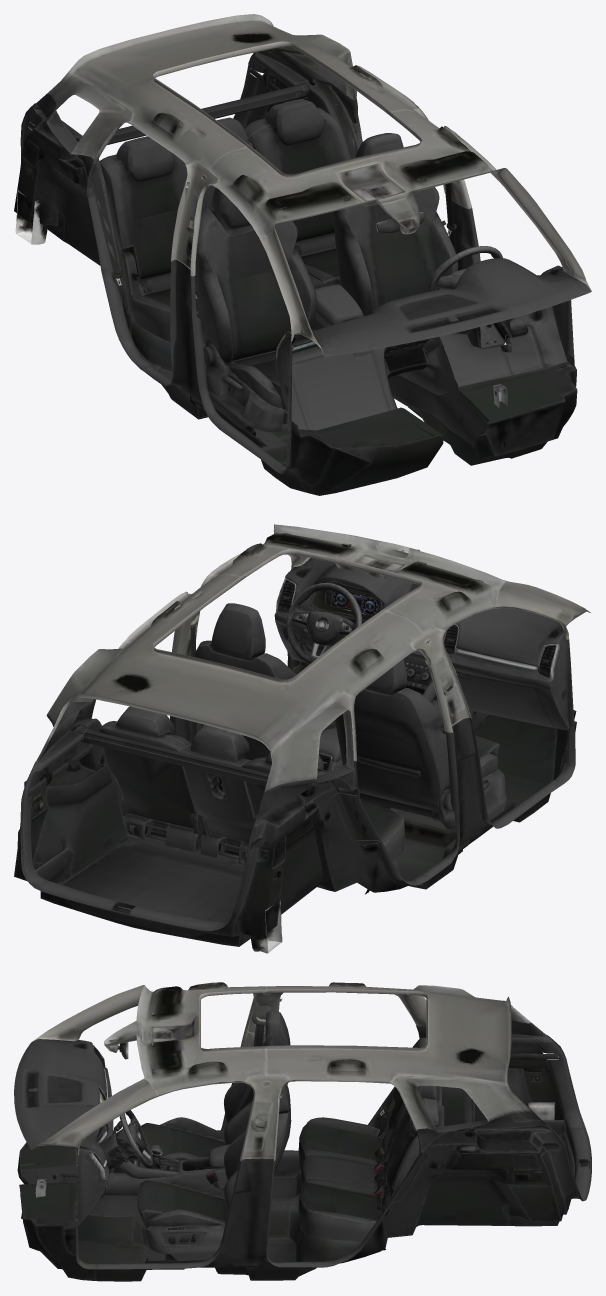
File: suv-interior.glb
3 renders of one model, top to bottom at view 1: azimuth 30°, elevation 25°; view 2: azimuth 150°, elevation 25°; view 3: azimuth 270°, elevation 25°, orthographic. The views are drawn at different scales.
Parts seen in each view (by area): view 1: interior_interior.0_0, interior_interior.1_0, panel_panel.0_0; view 2: interior_interior.0_0, interior_interior.1_0, panel_panel.0_0, steering-wheel-mesh, interior_interior.2_0; view 3: interior_interior.0_0, interior_interior.1_0, panel_panel.0_0, steering-wheel-mesh.
Boxes of the visible parts, <box> form: interior_interior.0_0: <box>14,14,591,495</box>; interior_interior.1_0: <box>99,99,458,447</box>; panel_panel.0_0: <box>275,246,591,448</box>; interior_interior.0_0: <box>14,524,590,953</box>; interior_interior.1_0: <box>99,603,515,864</box>; panel_panel.0_0: <box>274,558,576,772</box>; steering-wheel-mesh: <box>291,603,359,663</box>; interior_interior.2_0: <box>332,591,379,615</box>; interior_interior.0_0: <box>17,982,591,1281</box>; interior_interior.1_0: <box>137,1009,444,1263</box>; panel_panel.0_0: <box>14,1039,229,1228</box>; steering-wheel-mesh: <box>124,1111,153,1167</box>.
Size of the model in its own units: 1.72 by 1.46 by 3.59.
Materials: 4 (4 with a texture image).
